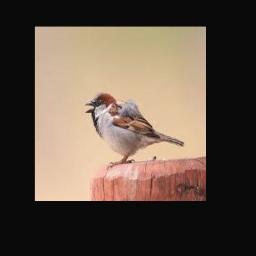Sparrow: (84, 91, 184, 169)
